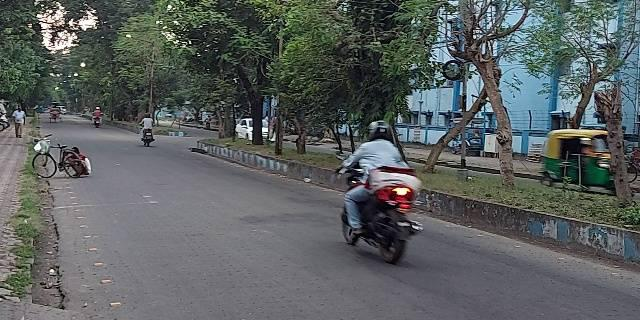Autorickshaw: (544, 127, 612, 190)
Cycle: (30, 141, 84, 177)
Motorbike: (334, 116, 420, 258), (137, 110, 157, 149)
